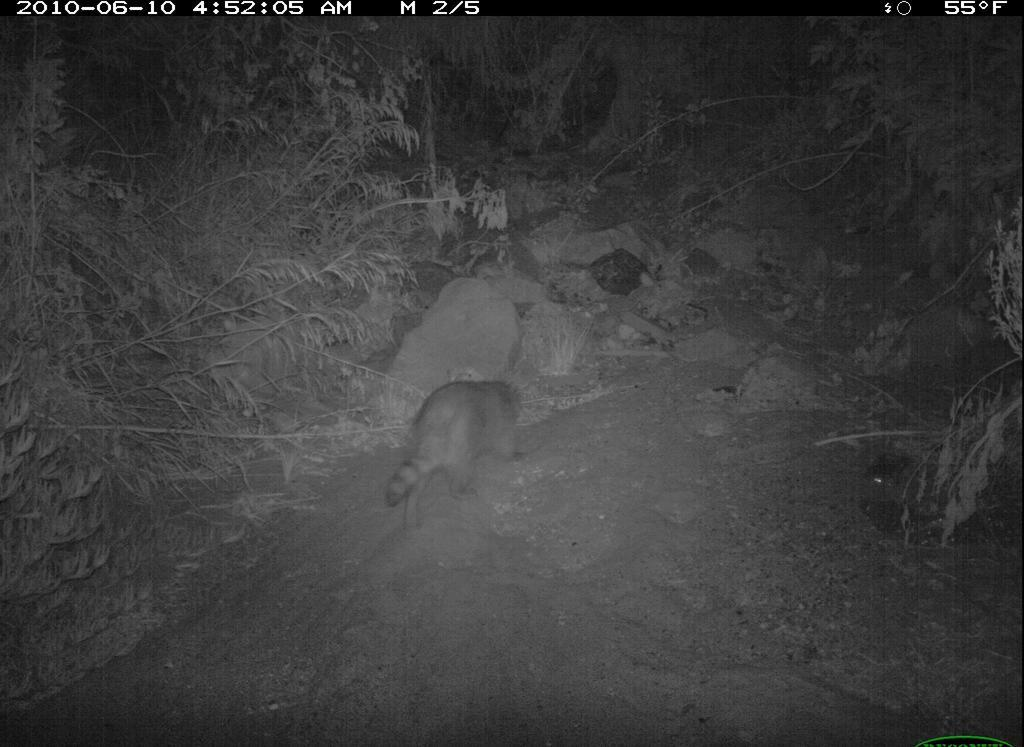raccoon: (382, 372, 536, 527)
